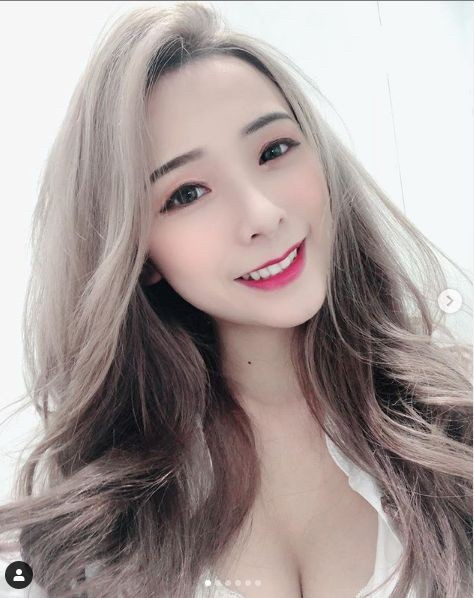people: (30, 14, 444, 593)
